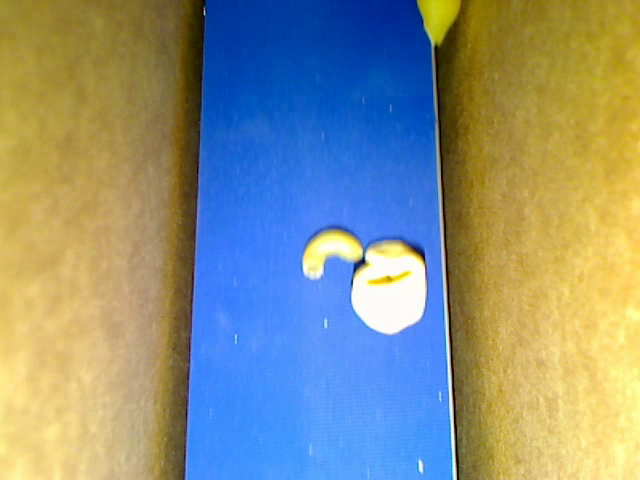elbow: (302, 228, 364, 279)
tortellini: (350, 238, 427, 336)
